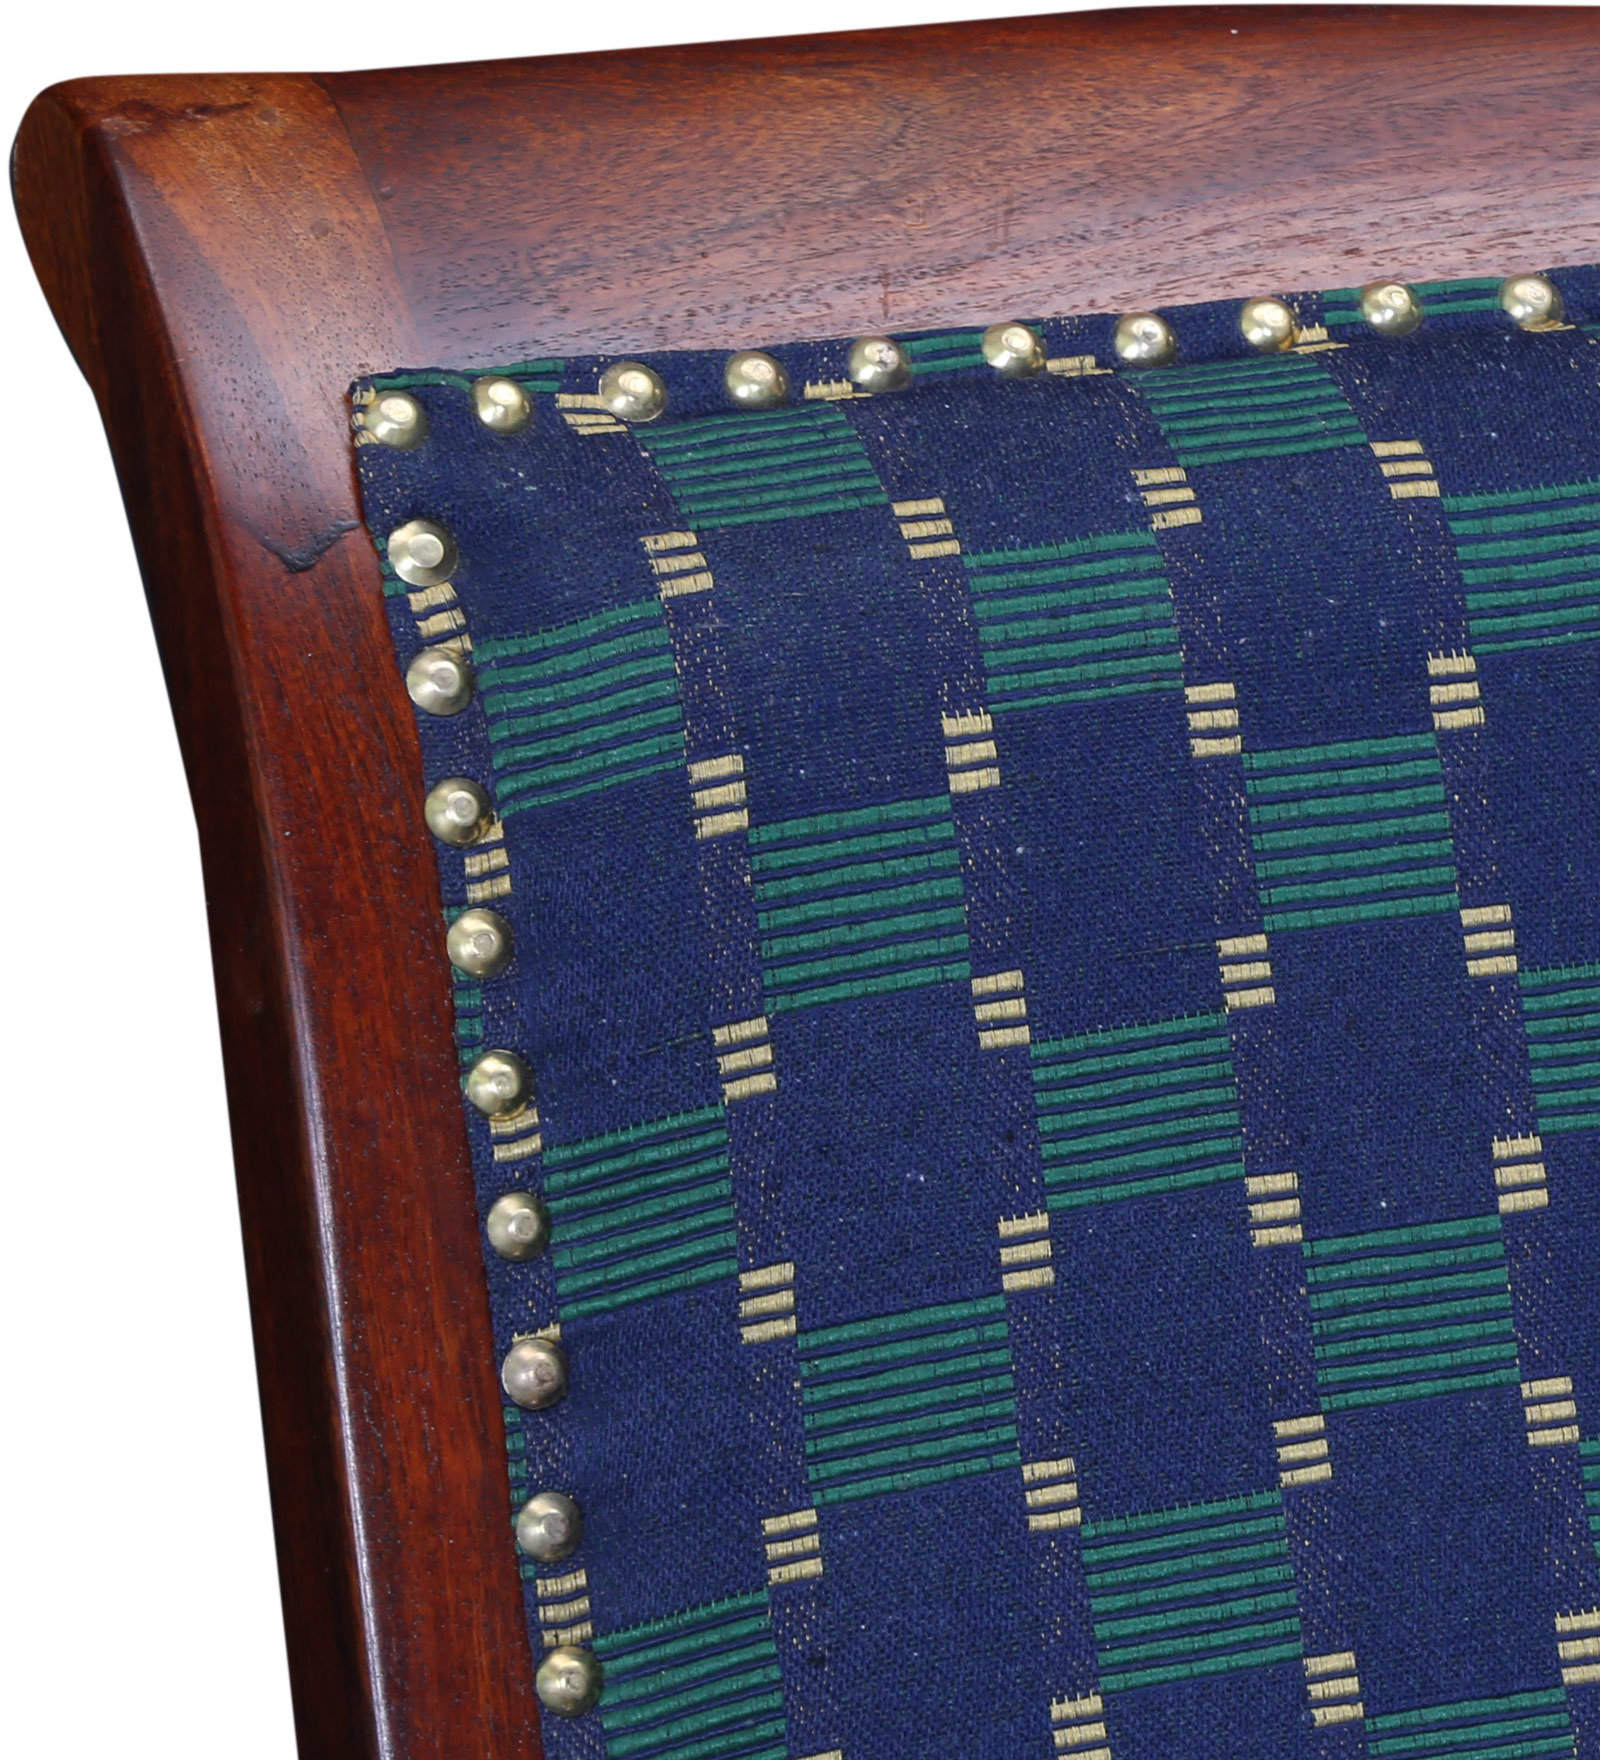Amherst Arm Chair in Honey Oak Finish by Amberville: (9, 35, 1600, 1608)
